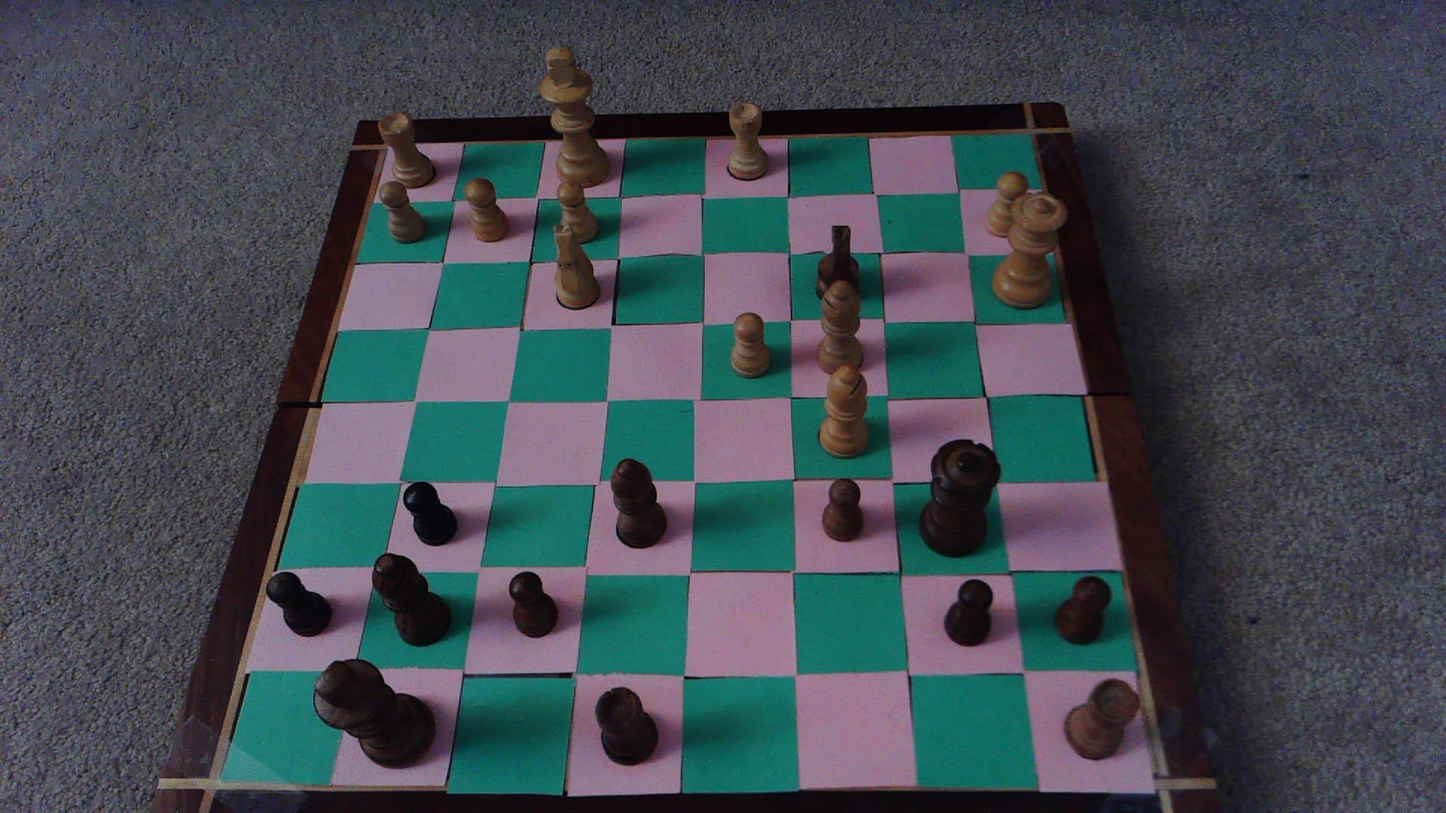dark_piece: (314, 659, 434, 766), (920, 439, 1000, 556), (374, 553, 449, 645), (1065, 679, 1139, 759), (611, 458, 666, 547), (596, 687, 657, 765), (267, 573, 331, 636), (815, 223, 862, 304), (1055, 576, 1110, 644), (403, 482, 456, 546), (944, 579, 993, 645), (509, 571, 557, 637), (822, 479, 862, 540)
white_piece: (539, 46, 611, 187), (993, 193, 1066, 307), (816, 280, 864, 374), (819, 364, 868, 456), (550, 223, 601, 309), (377, 111, 434, 187), (726, 103, 770, 180), (984, 170, 1030, 237), (380, 181, 426, 245), (729, 311, 771, 379), (464, 178, 508, 242), (557, 180, 597, 242)
